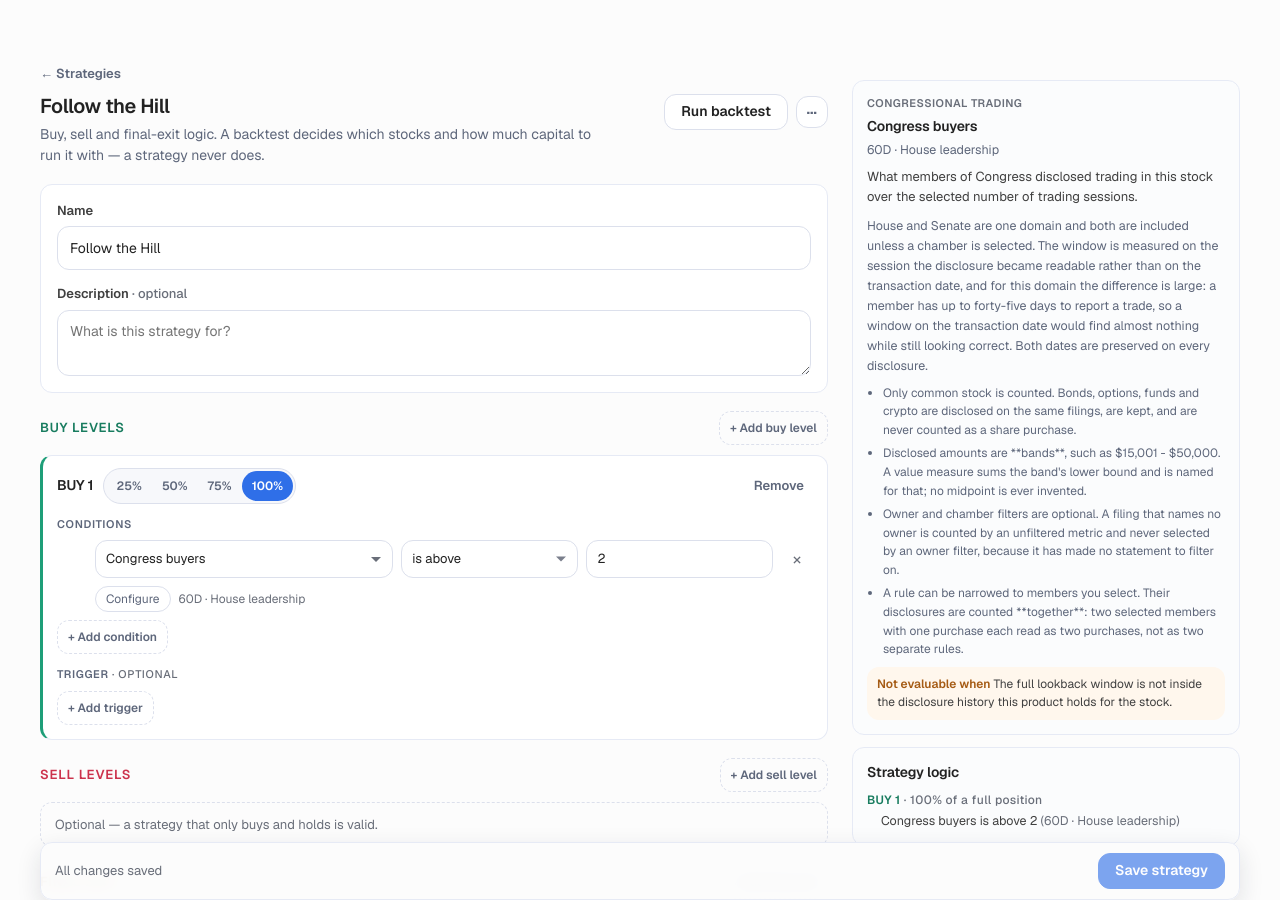
identity and configuration agree everywhere › keeps the group of a rule saved before groups left the product when only its measure changes
The width and height of the screenshot is (1280, 900).
Click the button with test id "metric-picker" at (156, 559), box [95, 540, 393, 578]
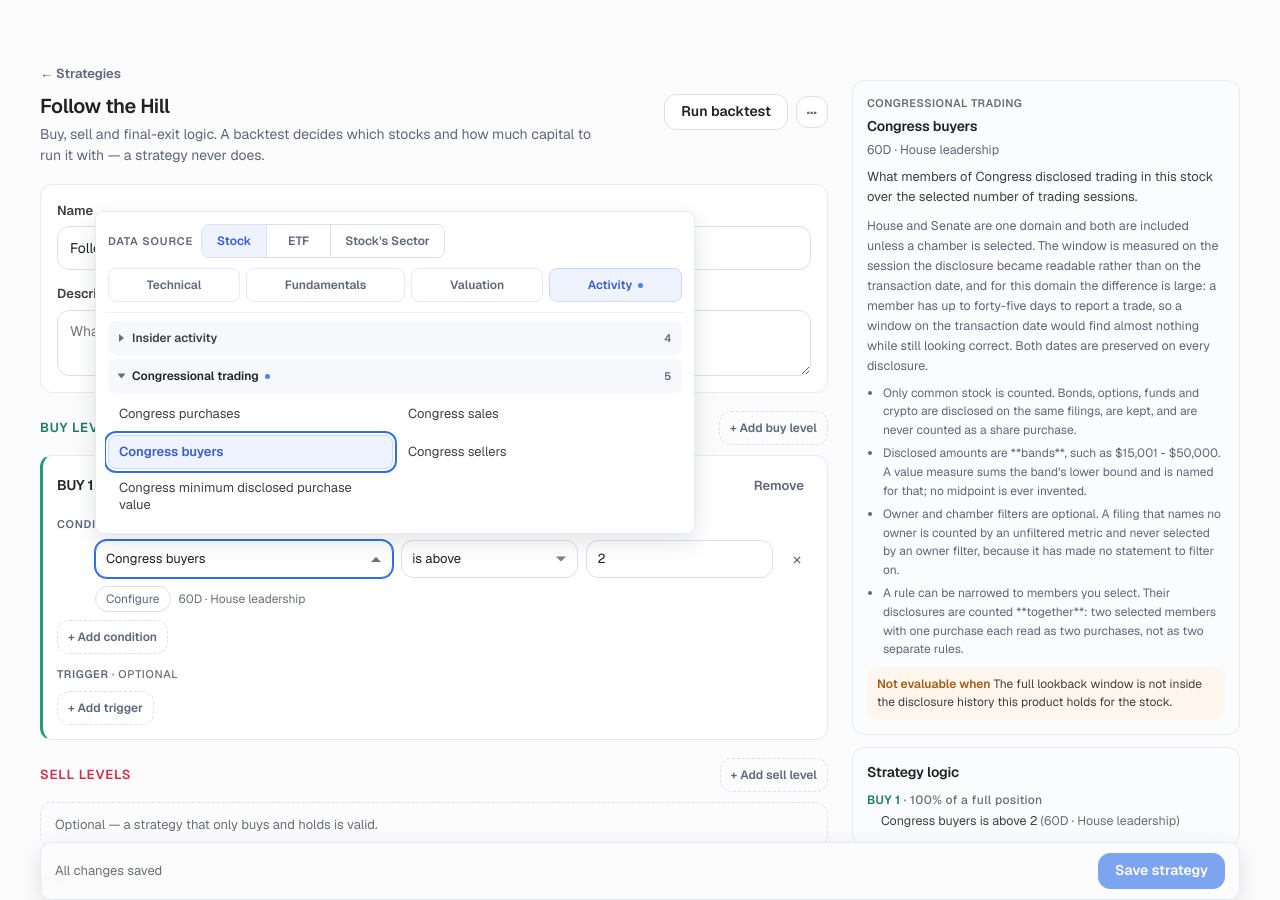
Click the button "Congress purchases" at (180, 413), box [108, 397, 393, 431]
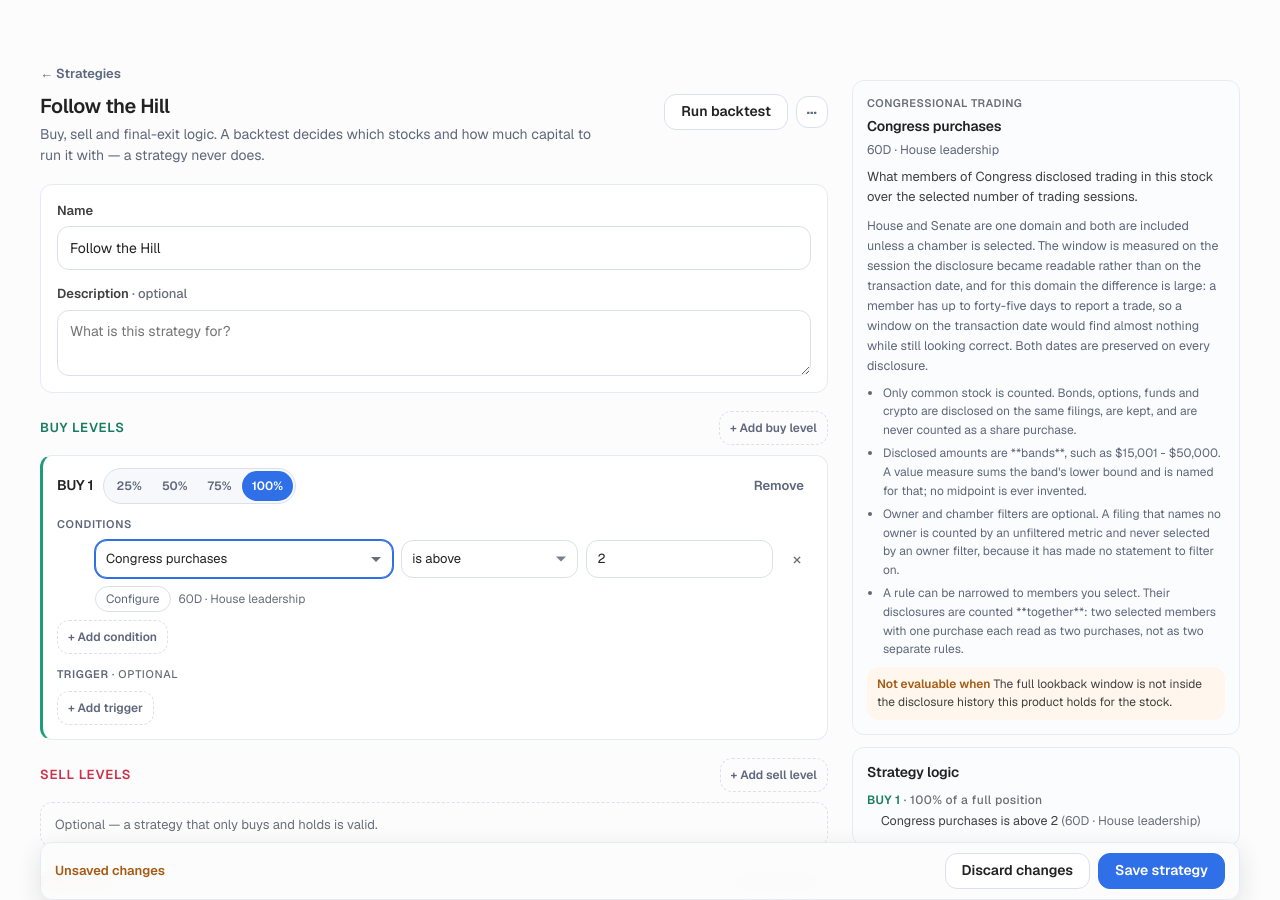
Expected: the text with test id "operand-configuration-summary" reads "60D · House leadership", [179, 591, 306, 607]
Now the text "Congress purchases" is shown, box [106, 550, 227, 567]
